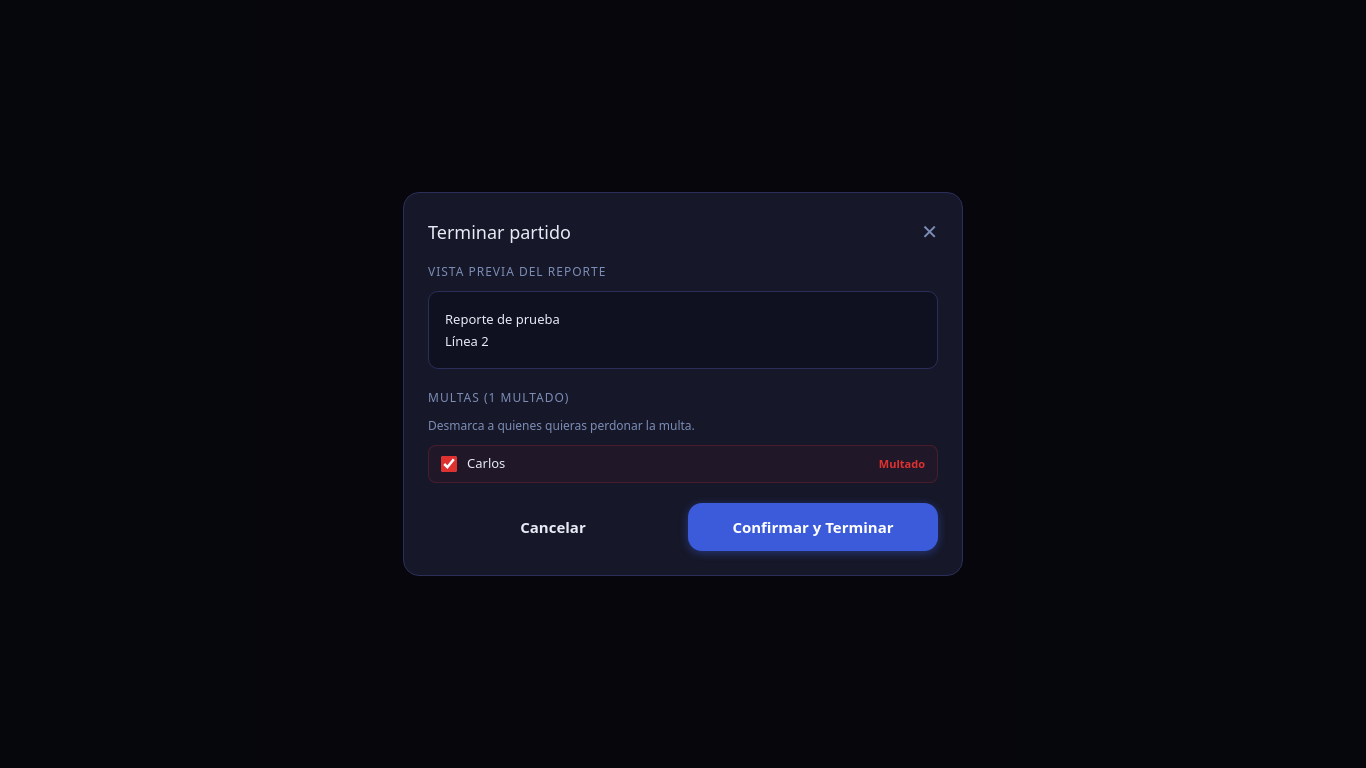
GameCompleteModal › muestra error si complete falla
Click the button "Confirmar y Terminar": point(813, 527) [688, 503, 938, 551]
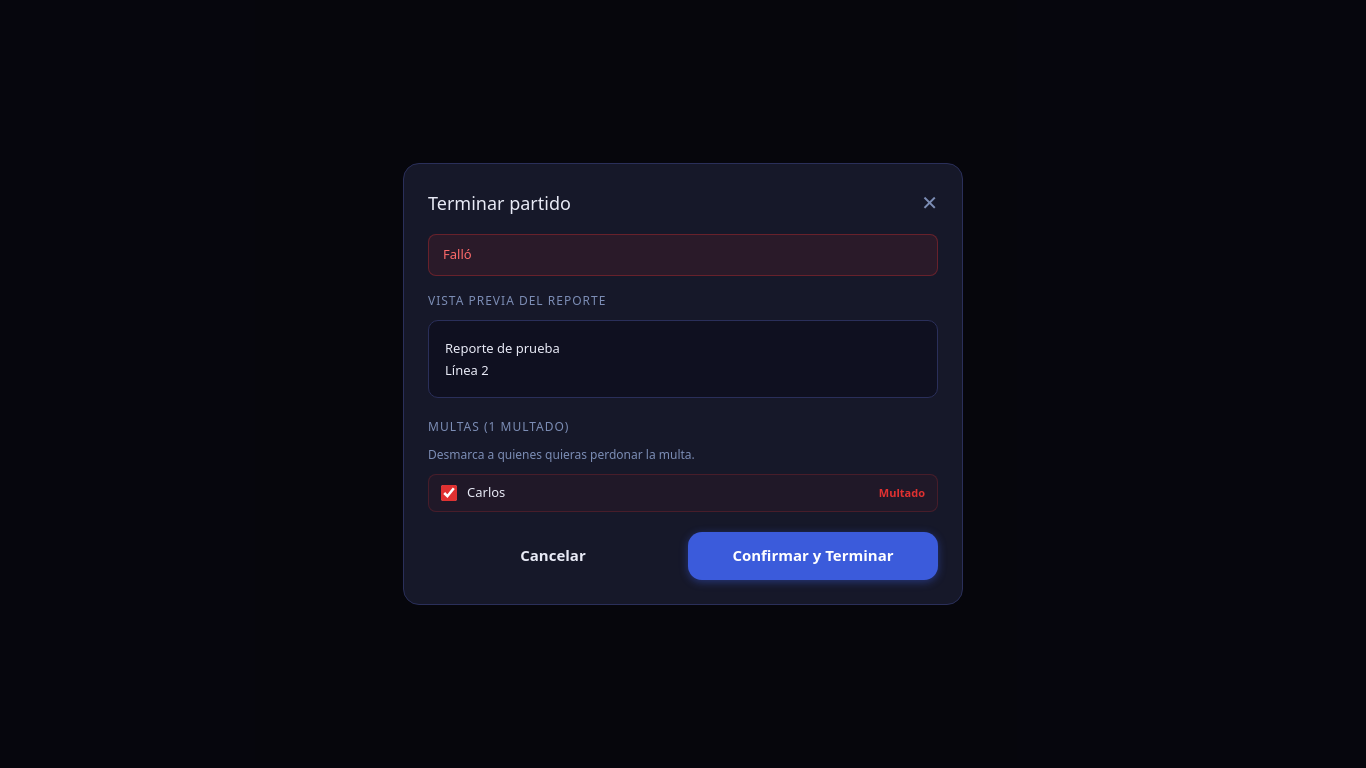
Check: the text "Falló" is shown, box [428, 234, 938, 276]
